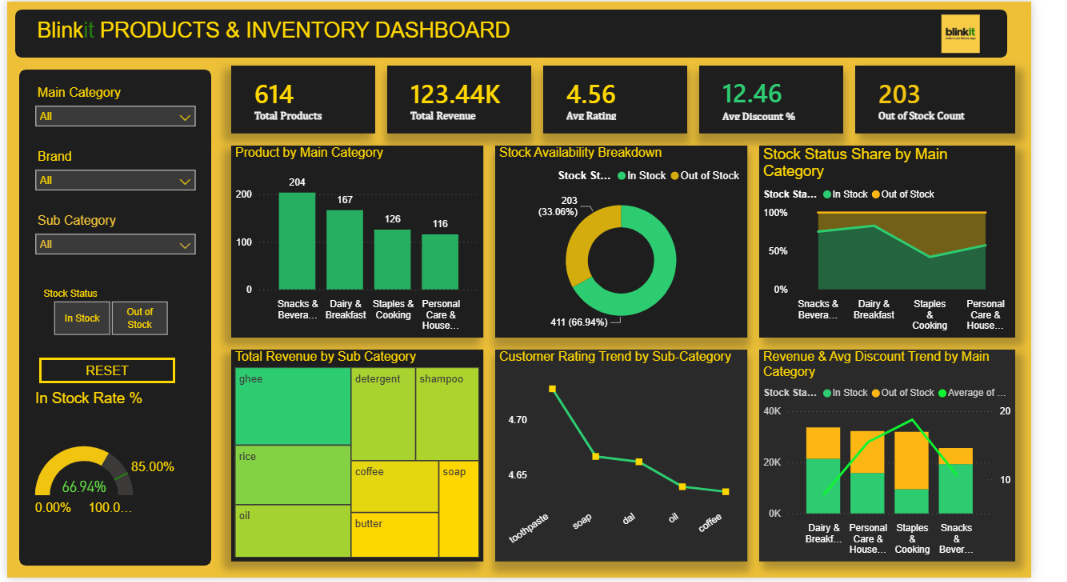

The dashboard page shown, as its layout file describes it:
{"tool":"powerbi","page":{"name":"Page 1","canvas":[1280,720],"ordinal":0},"visuals":[{"type":"shape","box":[10,10,1240,60],"z":0},{"type":"textbox","box":[32,16,736,64],"z":1000},{"type":"image","box":[1104,16,176,48],"z":2000},{"type":"shape","box":[15,85,240,620],"z":3000},{"type":"slicer","fields":{"Values":["Blinkit_Products.Main Category"]},"box":[25,100,220,75],"z":4000},{"type":"slicer","fields":{"Values":["Blinkit_Products.brand"]},"box":[25,180,220,75],"z":5000},{"type":"slicer","fields":{"Values":["Blinkit_Products.Stock Status"]},"box":[32,352,192,64],"z":6000},{"type":"cardVisual","fields":{"Data":["Blinkit_Products.Total Products"]},"box":[280,80,180,85],"z":7000},{"type":"cardVisual","fields":{"Data":["Blinkit_Products.Total Revenue"]},"box":[475,80,180,85],"z":8000},{"type":"cardVisual","fields":{"Data":["Blinkit_Products.Avg Rating"]},"box":[670,80,180,85],"z":9000},{"type":"cardVisual","fields":{"Data":["Blinkit_Products.Avg Discount %"]},"box":[865,80,180,85],"z":10000},{"type":"cardVisual","fields":{"Data":["Blinkit_Products.Out of Stock Count"]},"box":[1060,80,200,85],"z":11000},{"type":"clusteredColumnChart","fields":{"Category":["Blinkit_Products.Main Category"],"Y":["Count(Blinkit_Products.name)"]},"box":[280,180,315,240],"z":12000},{"type":"donutChart","title":"Stock Availability Breakdown","fields":{"Category":["Blinkit_Products.Stock Status"],"Y":["CountNonNull(Blinkit_Products.Product)"]},"box":[610,180,315,240],"z":13000},{"type":"hundredPercentStackedAreaChart","title":"Stock Status Share by Main Category","fields":{"Category":["Blinkit_Products.Main Category"],"Y":["CountNonNull(Blinkit_Products.Product)"],"Series":["Blinkit_Products.Stock Status"]},"box":[940,180,320,240],"z":14000},{"type":"treemap","fields":{"Values":["Blinkit_Products.Total Revenue"],"Group":["Blinkit_Products.category"]},"box":[280,435,315,265],"z":15000},{"type":"lineChart","title":"Customer Rating Trend by Sub-Category","fields":{"Y":["Blinkit_Products.Avg Rating"],"Category":["Blinkit_Products.category"]},"box":[610,435,315,265],"z":16000},{"type":"lineStackedColumnComboChart","title":"Revenue & Avg Discount Trend by Main Category","fields":{"Series":["Blinkit_Products.Stock Status"],"Y2":["Avg(Blinkit_Products.Discount (%))"],"Y":["Sum(Blinkit_Products.Offer Price (₹))"],"Category":["Blinkit_Products.Main Category"]},"box":[940,435,320,265],"z":17000},{"type":"slicer","fields":{"Values":["Blinkit_Products.Sub Category"]},"box":[25,260,220,75],"z":18000},{"type":"gauge","fields":{"Y":["Blinkit_Products.In Stock Rate %"]},"box":[30,485,190,210],"z":19000},{"type":"actionButton","box":[40,445,170,32],"z":20000}]}

Visuals, with their boxes in screenshot pixels (x1, y1, x2, y2):
shape: bbox(16, 8, 1003, 56)
textbox: bbox(34, 13, 619, 64)
image: bbox(886, 13, 1026, 51)
shape: bbox(20, 68, 211, 561)
slicer - Blinkit_Products.Main Category: bbox(28, 80, 203, 139)
slicer - Blinkit_Products.brand: bbox(28, 143, 203, 203)
slicer - Blinkit_Products.Stock Status: bbox(34, 280, 187, 331)
cardVisual - Blinkit_Products.Total Products: bbox(231, 64, 374, 131)
cardVisual - Blinkit_Products.Total Revenue: bbox(386, 64, 529, 131)
cardVisual - Blinkit_Products.Avg Rating: bbox(541, 64, 684, 131)
cardVisual - Blinkit_Products.Avg Discount %: bbox(696, 64, 840, 131)
cardVisual - Blinkit_Products.Out of Stock Count: bbox(851, 64, 1011, 131)
clusteredColumnChart - Blinkit_Products.Main Category x Count(Blinkit_Products.name): bbox(231, 143, 482, 334)
"Stock Availability Breakdown" donutChart: bbox(494, 143, 744, 334)
"Stock Status Share by Main Category" hundredPercentStackedAreaChart: bbox(756, 143, 1011, 334)
treemap - Blinkit_Products.Total Revenue x Blinkit_Products.category: bbox(231, 346, 482, 557)
"Customer Rating Trend by Sub-Category" lineChart: bbox(494, 346, 744, 557)
"Revenue & Avg Discount Trend by Main Category" lineStackedColumnComboChart: bbox(756, 346, 1011, 557)
slicer - Blinkit_Products.Sub Category: bbox(28, 207, 203, 266)
gauge - Blinkit_Products.In Stock Rate %: bbox(32, 386, 183, 553)
actionButton: bbox(40, 354, 175, 379)
